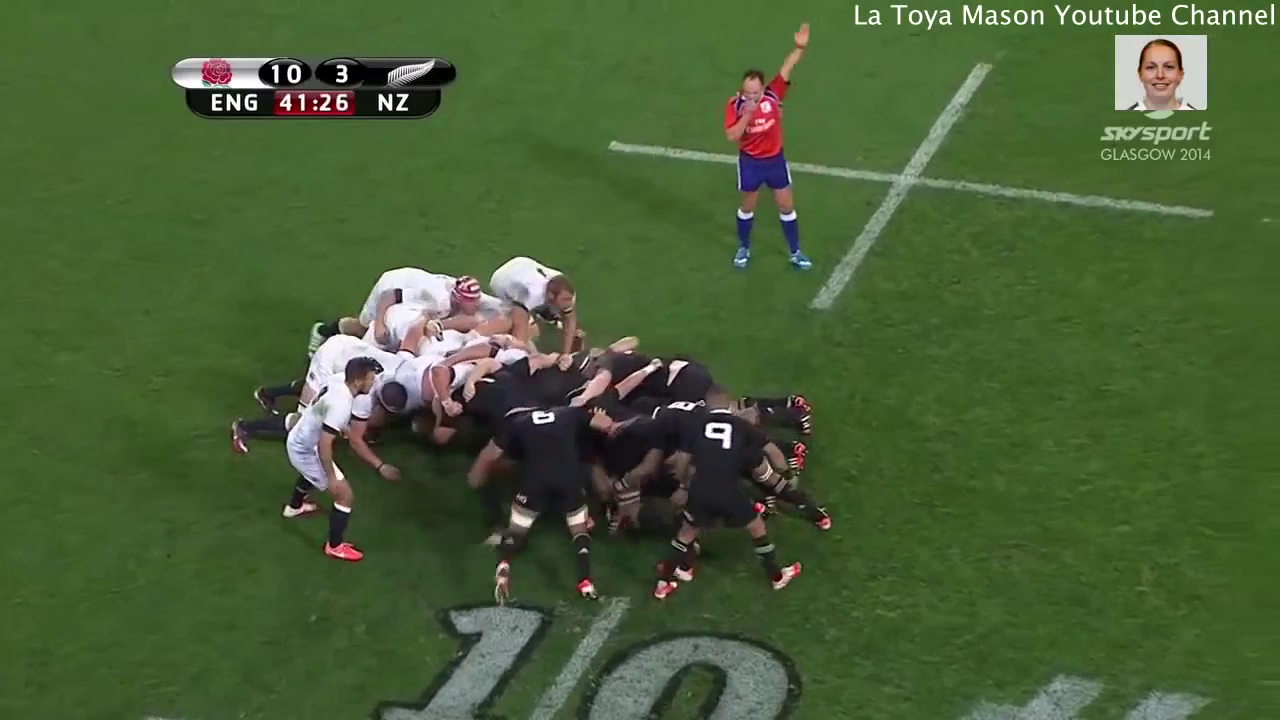player: (668, 395, 805, 604), (719, 23, 828, 274), (482, 400, 609, 608), (270, 357, 381, 569), (489, 256, 585, 344), (340, 272, 477, 314)
scrum: (233, 263, 803, 574)
